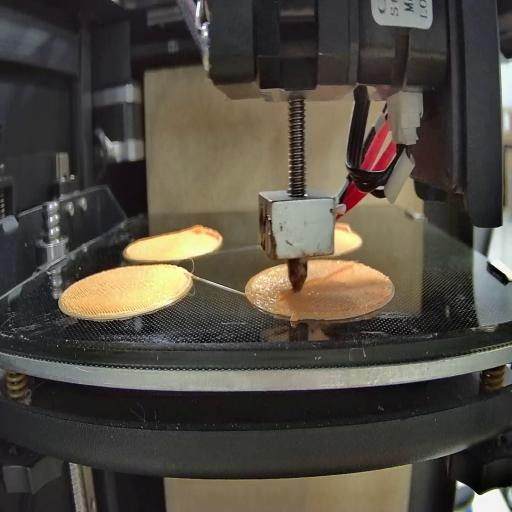over_extrusion: (304, 261, 355, 293), (186, 216, 224, 258), (275, 285, 297, 310), (336, 220, 351, 237)
